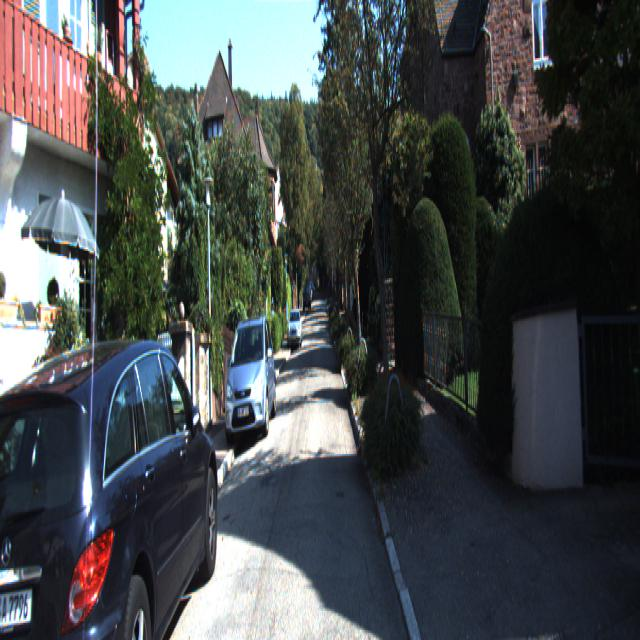Car: (0, 321, 219, 638), (223, 312, 276, 446), (288, 312, 303, 353)
